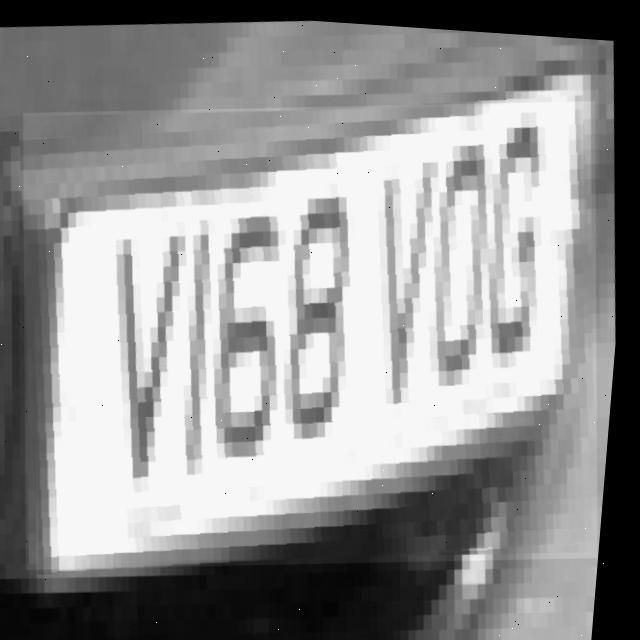LicensePlate: (0, 62, 635, 598)
